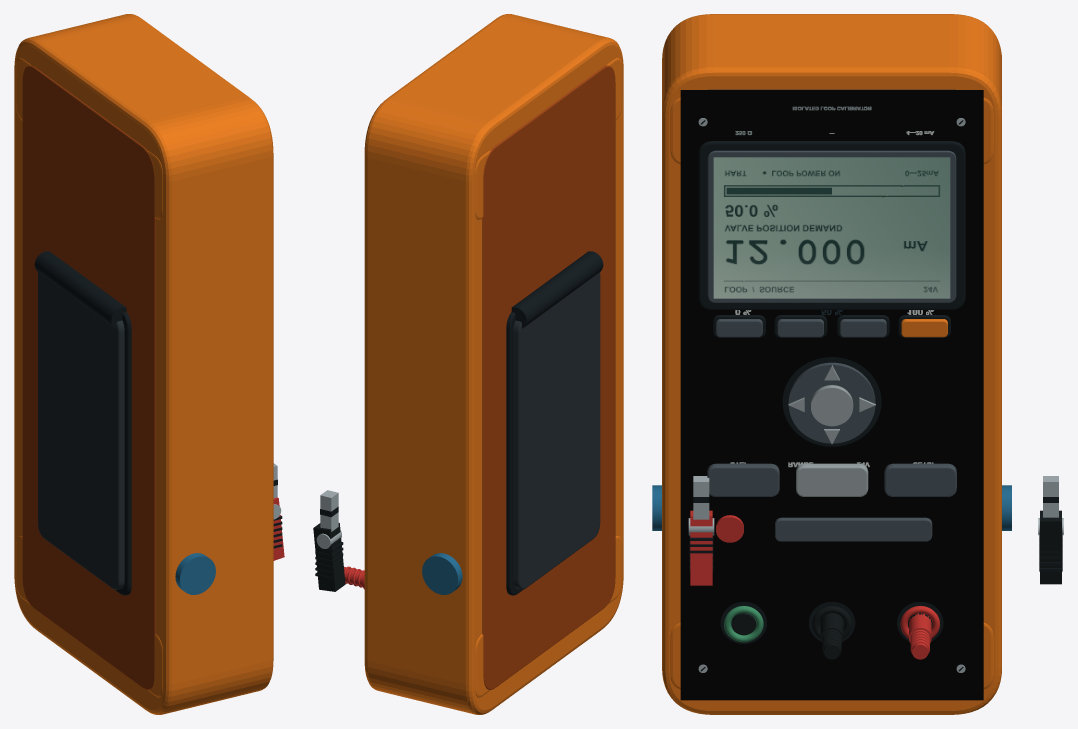
File: positioner-signal-source.glb
3 renders of one model, left to right at view 1: azimuth 30°, elevation 25°; view 2: azimuth 150°, elevation 25°; view 3: azimuth 270°, elevation 25°, orthographic. The views are drawn at different scales.
Parts seen in each view (by area): view 1: orange_shockproof_boot, rear_battery_cover, rear_folding_stand, rear_stand_hinge, rear_stand_recess, AA_battery_1, corner_bumper_8.6_-4.12, corner_bumper_-8.6_-4.12, corner_bumper_8.6_4.12, corner_bumper_-8.6_4.12; view 2: orange_shockproof_boot, rear_battery_cover, rear_folding_stand, rear_stand_hinge, rear_stand_recess, AA_battery_4, common_clip_insulated_body, common_clip_metal_jaw, corner_bumper_8.6_4.12, corner_bumper_-8.6_4.12, corner_bumper_8.6_-4.12; view 3: front_panel_legends, orange_shockproof_boot, active_lcd_12mA, lcd_outer_bezel, lcd_inner_bezel, hart_mode_key, navigation_ring, valve_step_key_100, valve_step_key_50, valve_step_key_0, navigation_recess, navigation_enter_key (+13 smaller).
Part boxes in pixels (x1,y1,x2,y2): orange_shockproof_boot: (14,14,273,714); rear_battery_cover: (22,65,155,689); rear_folding_stand: (38,272,124,589); rear_stand_hinge: (34,251,126,328); rear_stand_recess: (115,312,131,595); AA_battery_1: (175,553,215,594); corner_bumper_8.6_-4.12: (147,151,162,219); corner_bumper_-8.6_-4.12: (148,634,162,697); corner_bumper_8.6_4.12: (16,58,30,120); corner_bumper_-8.6_4.12: (16,536,29,603); orange_shockproof_boot: (364,14,623,714); rear_battery_cover: (482,65,615,689); rear_folding_stand: (513,272,600,589); rear_stand_hinge: (511,251,603,328); rear_stand_recess: (506,312,522,595); AA_battery_4: (422,553,462,594); common_clip_insulated_body: (313,523,345,591); common_clip_metal_jaw: (320,490,338,531); corner_bumper_8.6_4.12: (475,150,490,219); corner_bumper_-8.6_4.12: (475,634,489,697); corner_bumper_8.6_-4.12: (607,58,622,120); front_panel_legends: (680,90,983,700); orange_shockproof_boot: (662,14,1001,714); active_lcd_12mA: (713,157,950,298); lcd_outer_bezel: (698,141,965,309); lcd_inner_bezel: (707,150,956,302); hart_mode_key: (775,517,932,541); navigation_ring: (788,362,875,443); valve_step_key_100: (884,463,956,496); valve_step_key_50: (796,463,868,496); valve_step_key_0: (707,463,779,496); navigation_recess: (782,357,881,446); navigation_enter_key: (811,385,853,426).
Size of the model in its own units: 0.0689 by 0.212 by 0.1222.
20 materials, 4 textured.
